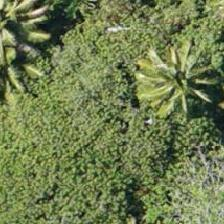coconut_tree: (140, 37, 223, 127)
